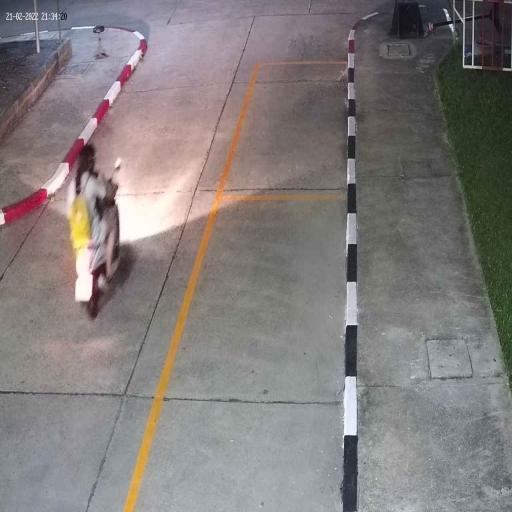motorcycle: (74, 212, 122, 315)
